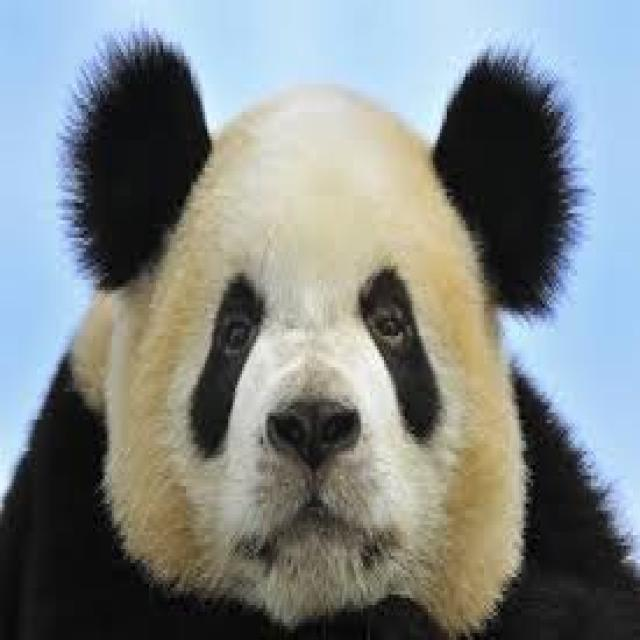Panda: (0, 23, 640, 640)
